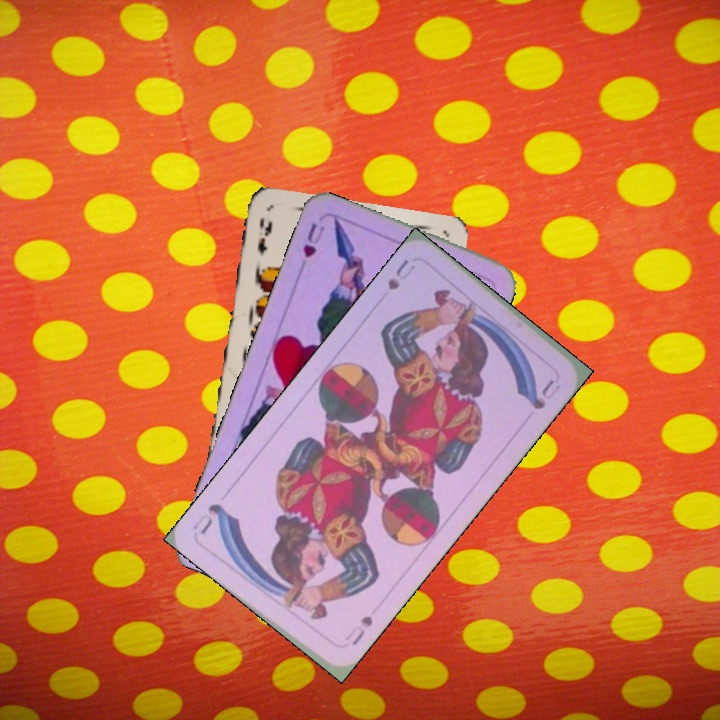E9: (253, 214, 275, 258)
HU: (298, 219, 327, 261)
SU: (381, 254, 419, 297), (340, 611, 376, 648)
